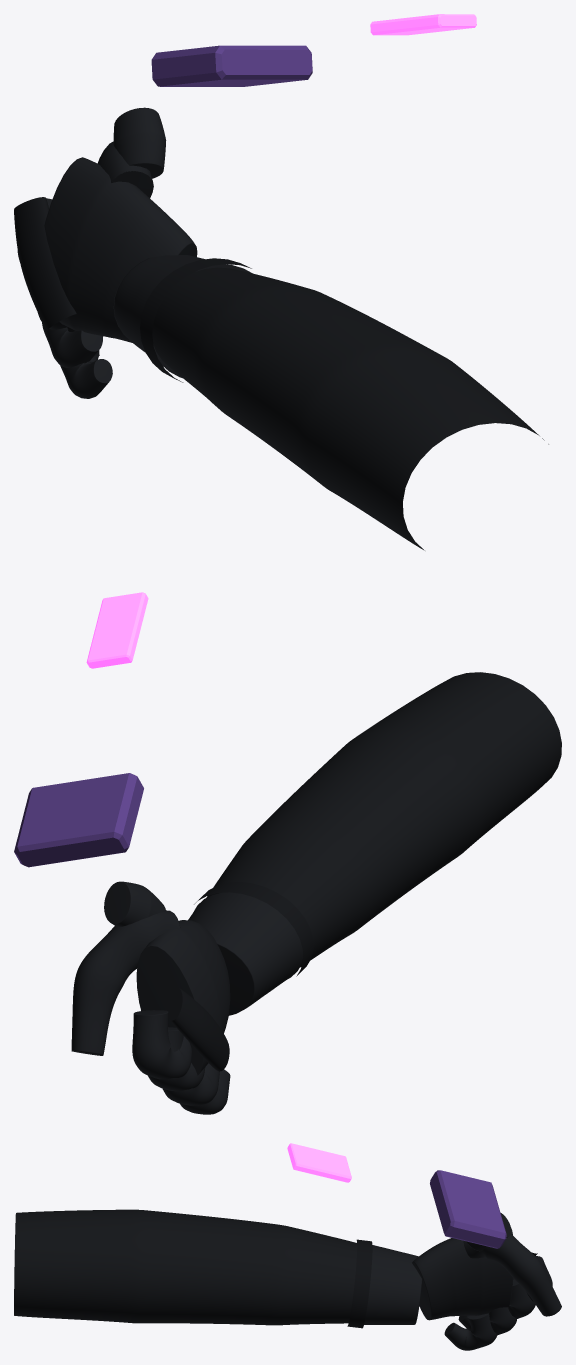
Rendered from hands_tempest_charge.glb.
The picture shows the model from 3 angles, top to bottom: view 1: azimuth 30°, elevation 25°; view 2: azimuth 150°, elevation 25°; view 3: azimuth 270°, elevation 25°; orthographic projection. The views are drawn at different scales.
Parts seen in each view (by area): view 1: hand_l_forearm, hand_l_palm, hand_l_cuff_plate, hand_l_knuckle_panel, hand_l_cuff, hand_l_web, hand_l_cuff_strap, hand_l_lamp, hand_l_ring, hand_l_little, hand_l_thumb; view 2: hand_l_forearm, hand_l_cuff_plate, hand_l_cuff, hand_l_palm, hand_l_thumb, hand_l_lamp, hand_l_index, hand_l_knuckle_panel, hand_l_web, hand_l_cuff_strap, hand_l_ring, hand_l_middle (+1 smaller); view 3: hand_l_forearm, hand_l_palm, hand_l_cuff_plate, hand_l_cuff, hand_l_thumb, hand_l_lamp, hand_l_cuff_strap, hand_l_little, hand_l_ring, hand_l_middle.
Boxes of the visible parts, <box> form: hand_l_forearm: <box>152,267,548,550</box>; hand_l_palm: <box>44,157,197,342</box>; hand_l_cuff_plate: <box>151,45,312,86</box>; hand_l_knuckle_panel: <box>14,197,76,330</box>; hand_l_cuff: <box>113,255,252,378</box>; hand_l_web: <box>113,107,166,178</box>; hand_l_cuff_strap: <box>140,258,251,382</box>; hand_l_lamp: <box>370,14,476,35</box>; hand_l_ring: <box>42,322,102,367</box>; hand_l_little: <box>60,327,112,398</box>; hand_l_thumb: <box>97,141,153,197</box>; hand_l_forearm: <box>206,672,561,967</box>; hand_l_cuff_plate: <box>14,773,143,867</box>; hand_l_cuff: <box>188,892,302,1015</box>; hand_l_palm: <box>136,920,230,1075</box>; hand_l_thumb: <box>71,910,180,1055</box>; hand_l_lamp: <box>86,592,148,668</box>; hand_l_index: <box>132,1010,191,1079</box>; hand_l_knuckle_panel: <box>170,988,229,1071</box>; hand_l_web: <box>104,881,165,926</box>; hand_l_cuff_strap: <box>194,882,313,976</box>; hand_l_ring: <box>162,1063,219,1105</box>; hand_l_middle: <box>148,1027,205,1091</box>; hand_l_forearm: <box>14,1209,357,1325</box>; hand_l_palm: <box>412,1228,513,1320</box>; hand_l_cuff_plate: <box>430,1170,506,1248</box>; hand_l_cuff: <box>364,1245,422,1324</box>; hand_l_thumb: <box>463,1234,561,1316</box>; hand_l_lamp: <box>287,1143,351,1182</box>; hand_l_cuff_strap: <box>347,1239,372,1328</box>; hand_l_little: <box>444,1313,497,1350</box>; hand_l_ring: <box>458,1307,516,1335</box>; hand_l_middle: <box>508,1278,535,1318</box>.
Bounding box in the file's own units: 0.1383 × 0.1893 × 0.3439.
